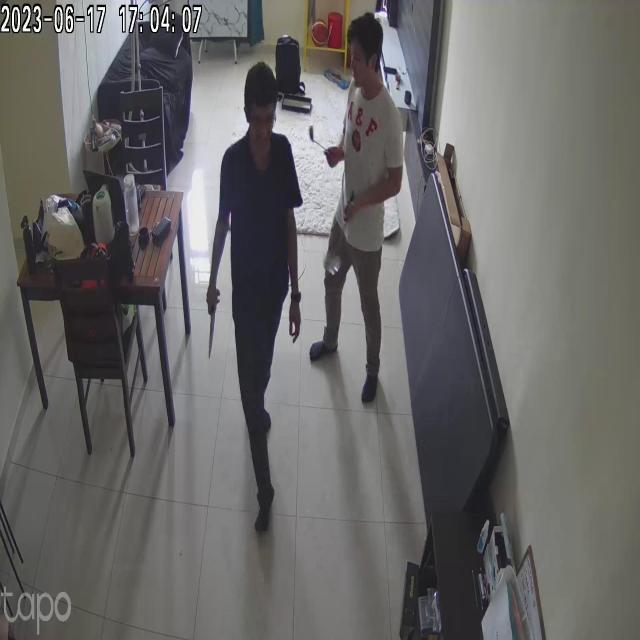Knife: (189, 292, 228, 369)
